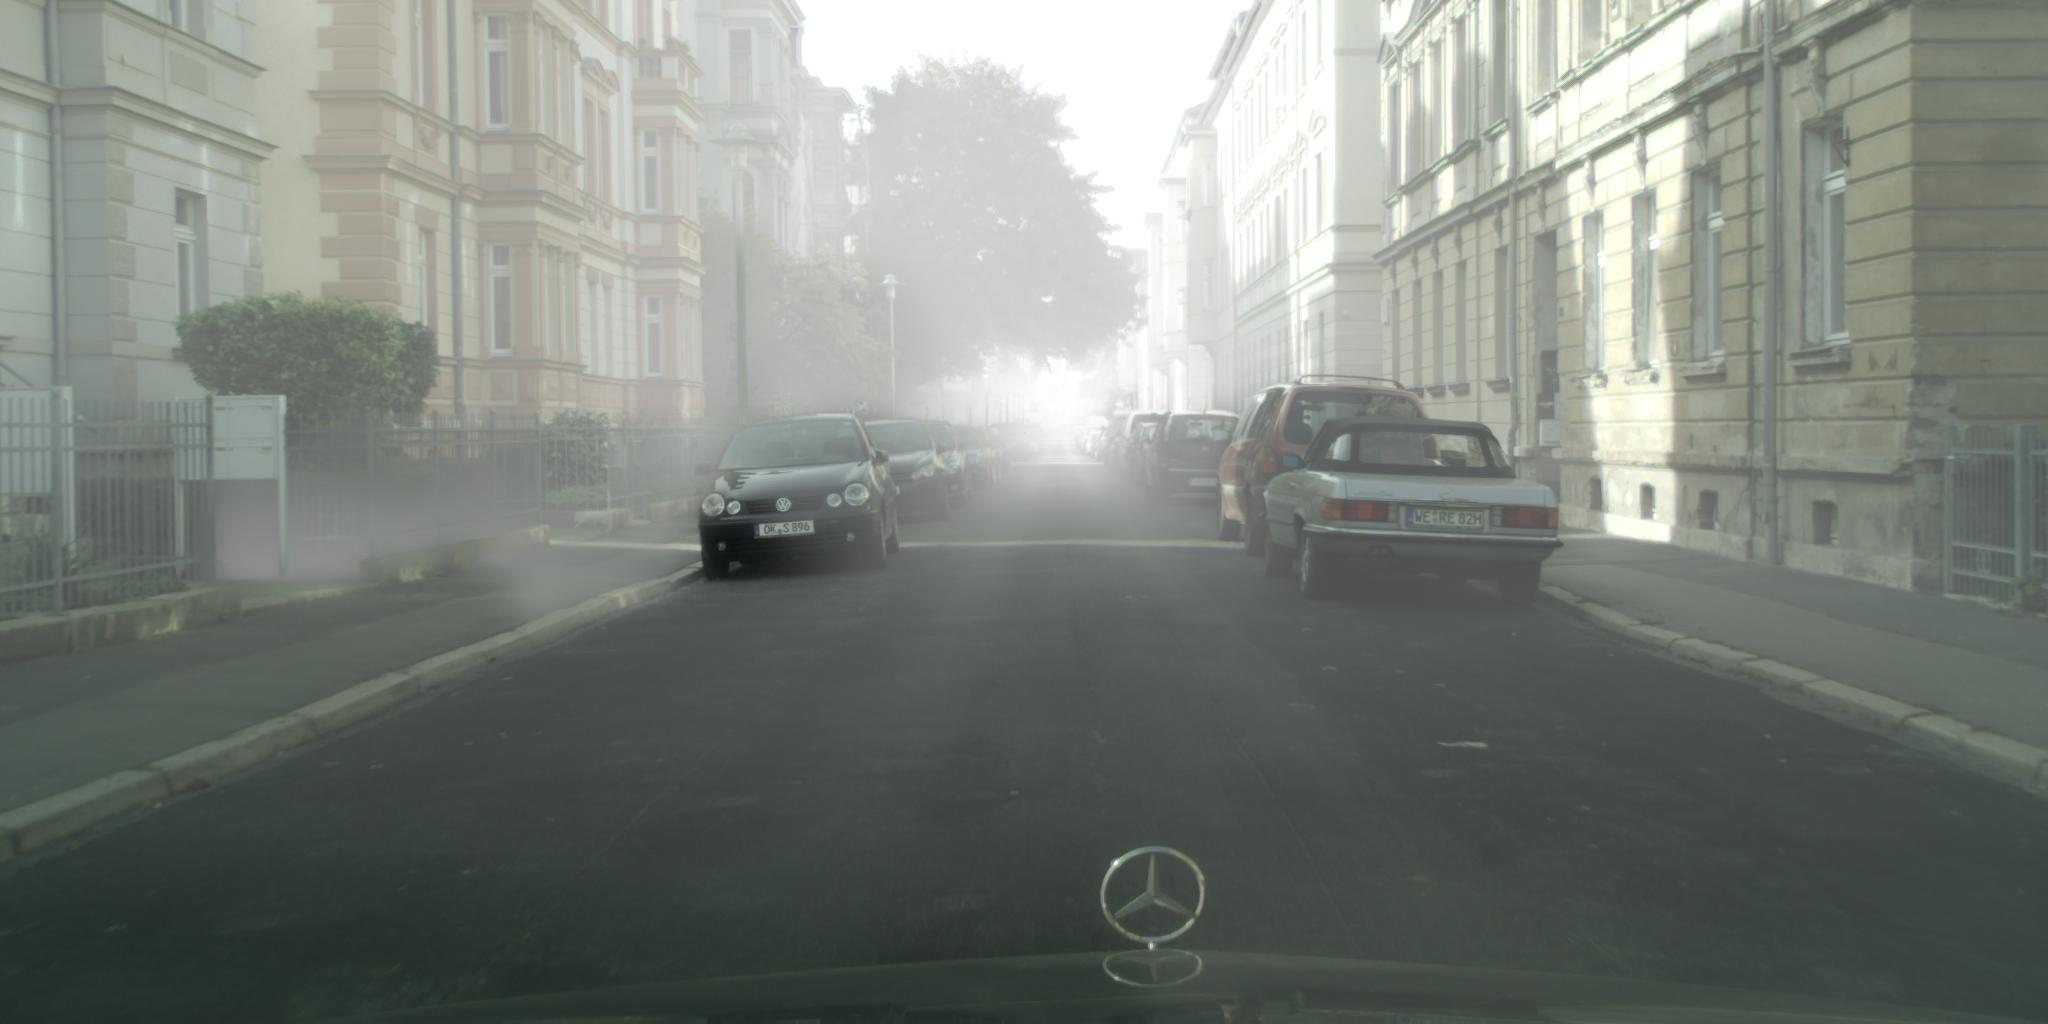car: (1263, 415, 1565, 603), (1209, 375, 1439, 560), (694, 411, 901, 580), (844, 418, 952, 522), (1138, 410, 1246, 509), (909, 421, 976, 509), (1112, 409, 1178, 485), (1123, 423, 1183, 491), (946, 427, 993, 492), (963, 427, 1007, 490), (1101, 410, 1144, 473), (986, 423, 1033, 464), (977, 427, 1012, 475)
